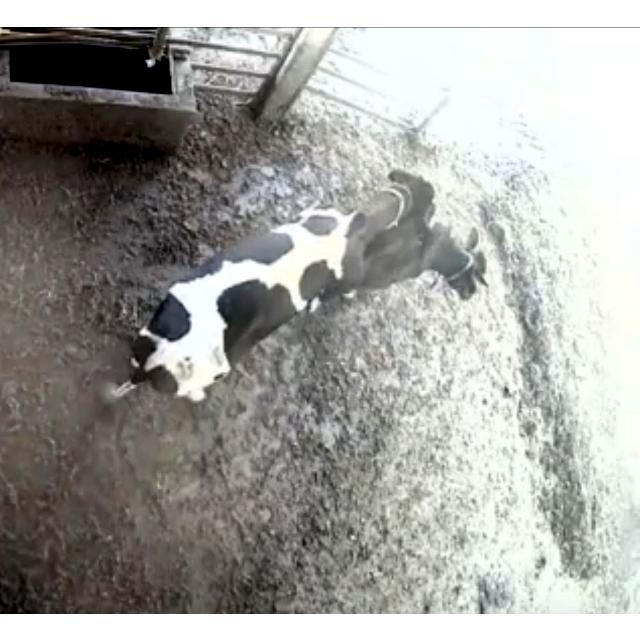ride: (116, 169, 434, 401)
